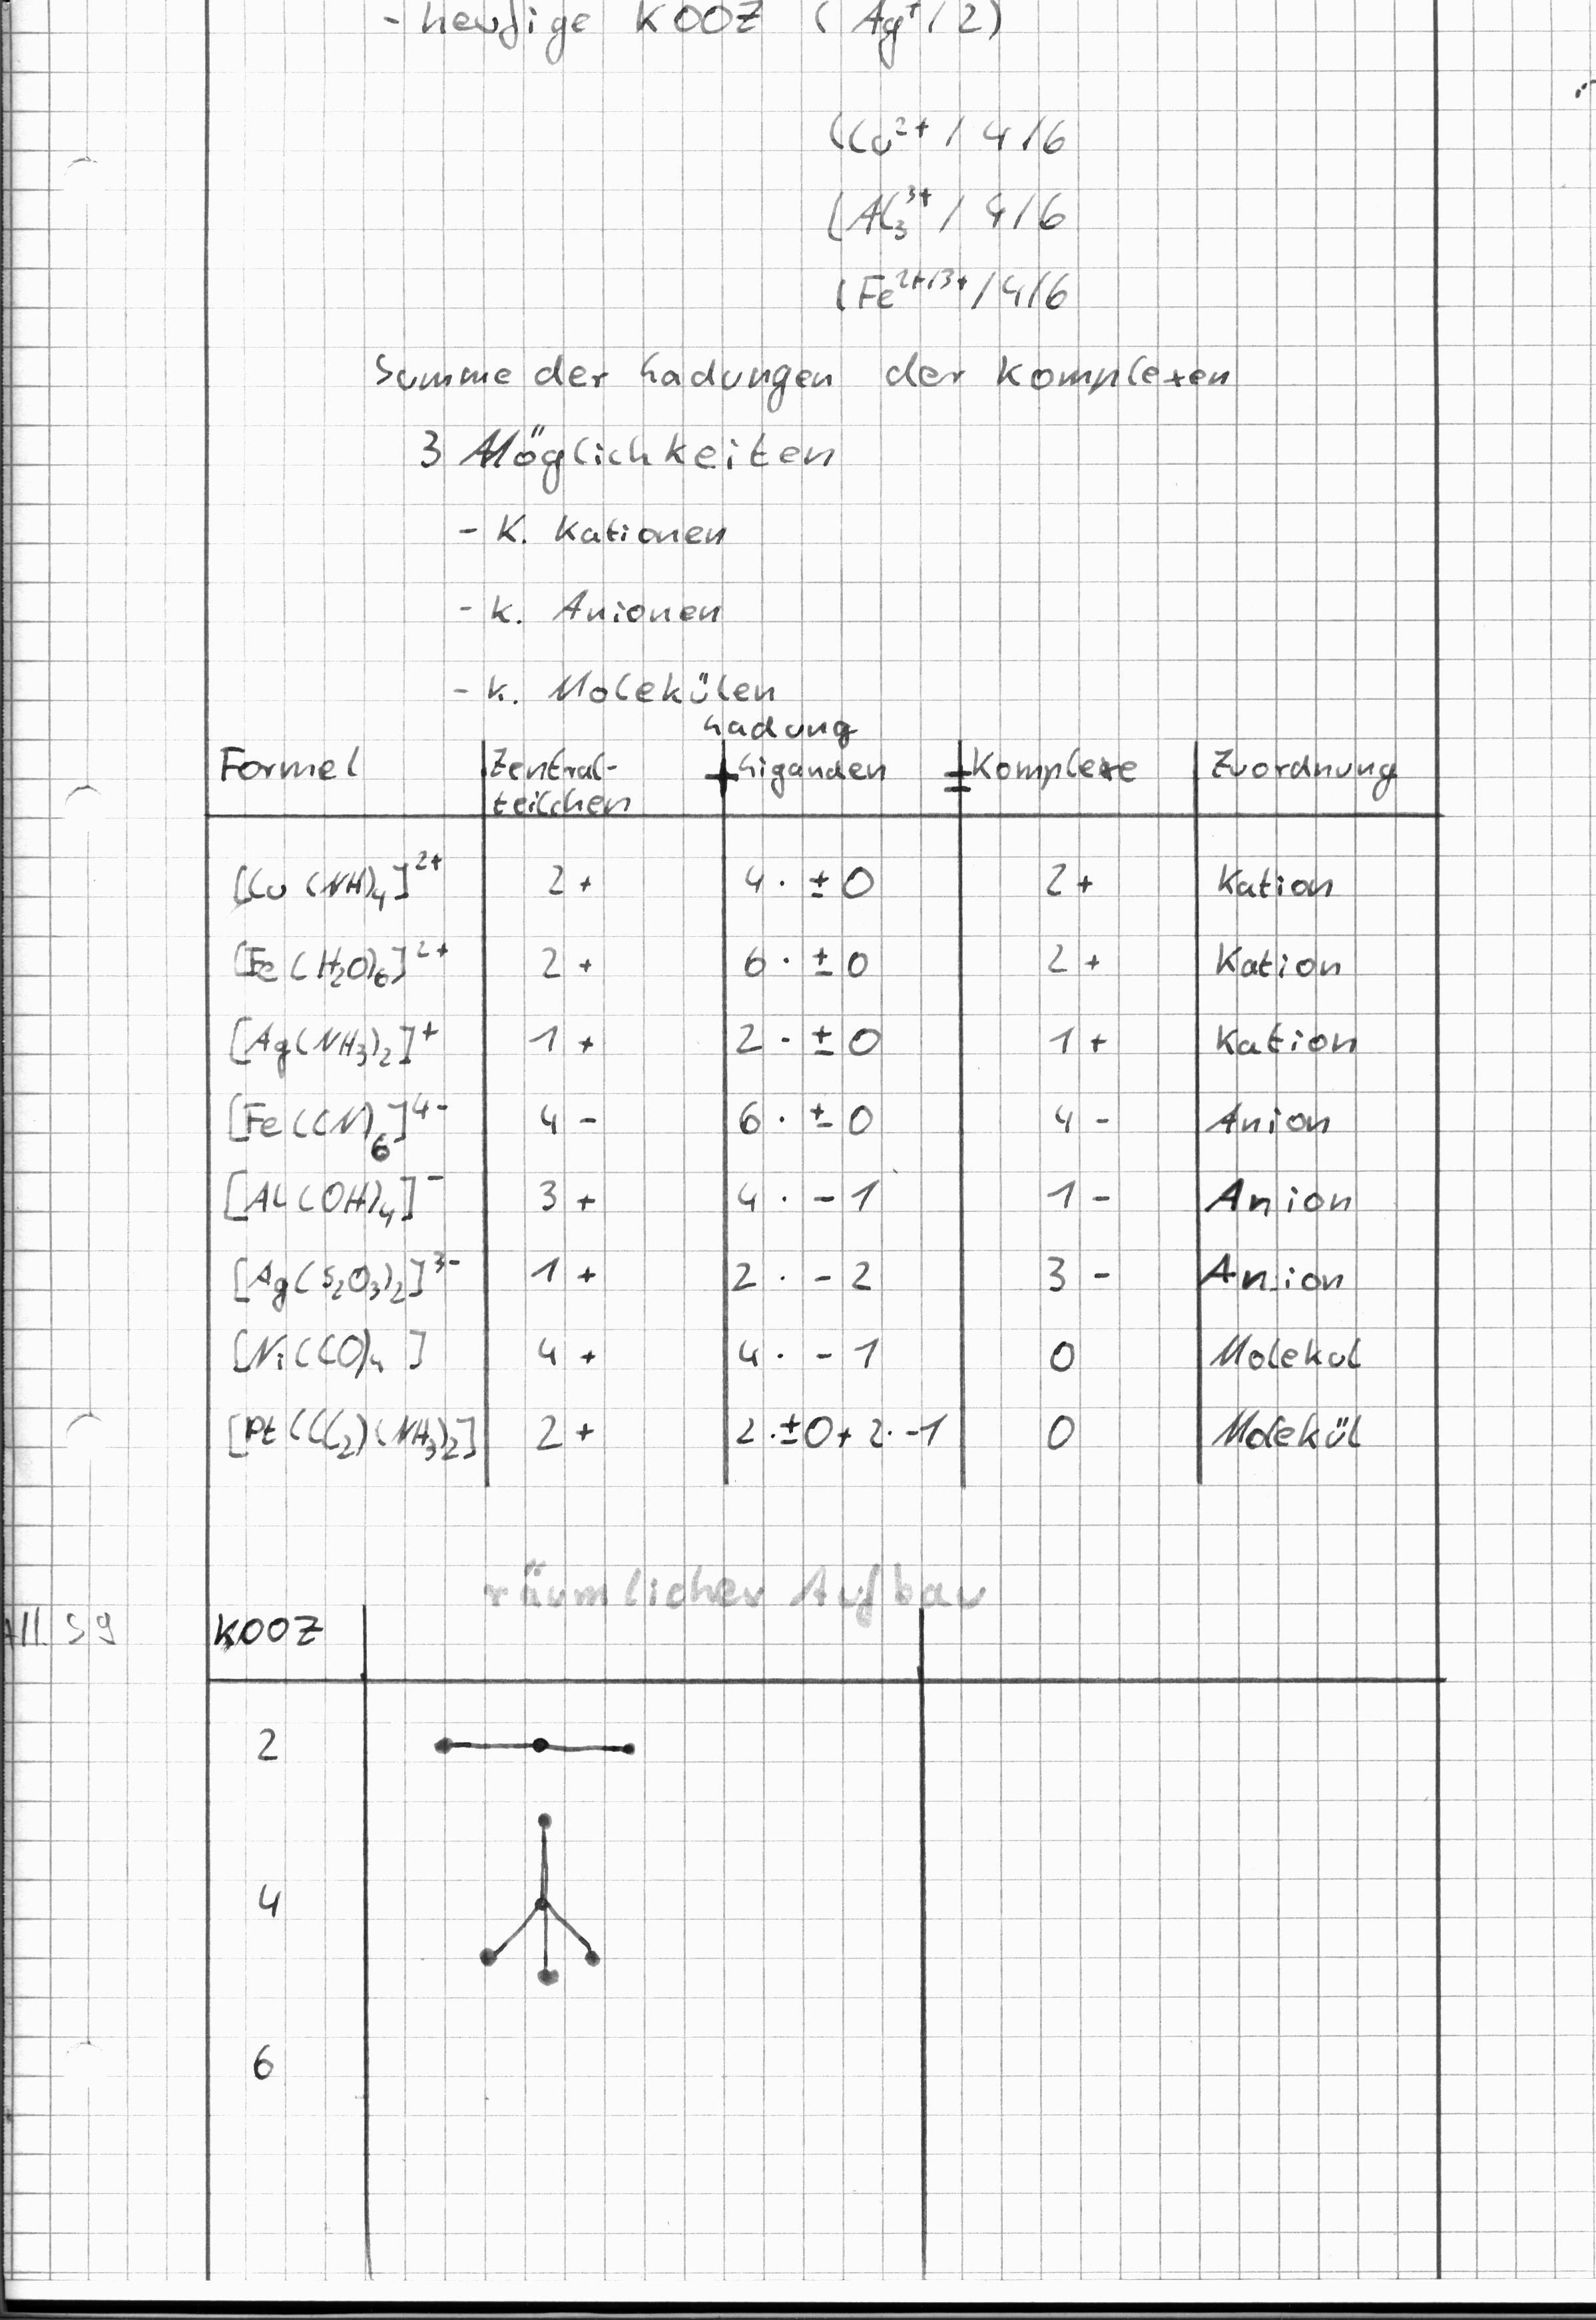word: (449, 422, 837, 709), (364, 334, 1238, 418), (818, 98, 1088, 324), (734, 1326, 954, 1467), (1205, 1327, 1374, 1460), (1193, 1172, 1364, 1301), (730, 1015, 890, 1149), (732, 1175, 893, 1308), (221, 1398, 482, 1480), (695, 707, 905, 805), (732, 855, 882, 992), (1196, 728, 1419, 818), (1198, 1020, 1363, 1140), (1204, 857, 1352, 988), (221, 1089, 453, 1172), (224, 840, 451, 918), (220, 1008, 449, 1084), (229, 1245, 468, 1316), (196, 719, 384, 807), (479, 730, 642, 828), (961, 727, 1158, 808), (229, 930, 453, 1000), (222, 1164, 449, 1233), (228, 1324, 431, 1388), (515, 1010, 608, 1143), (522, 1168, 613, 1305), (1034, 1171, 1123, 1301), (525, 854, 607, 994), (1034, 1016, 1122, 1138), (532, 1330, 610, 1462), (1034, 858, 1113, 984), (203, 1595, 338, 1669), (1032, 1328, 1094, 1452), (224, 2020, 302, 2100), (241, 1857, 304, 1942), (240, 1711, 308, 1790)
